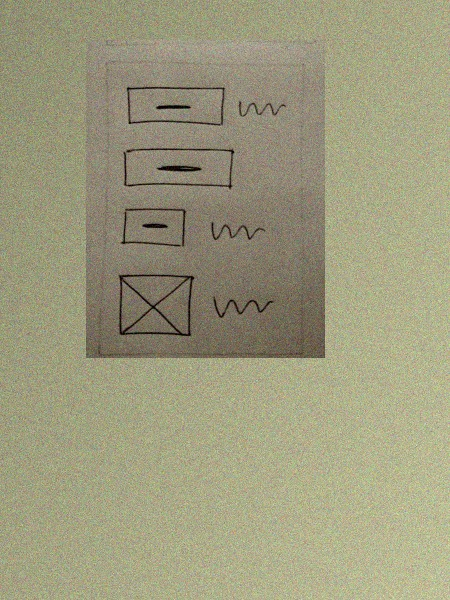button: (118, 146, 236, 195), (122, 83, 226, 131), (118, 206, 189, 251)
image: (114, 271, 196, 343)
text: (203, 219, 270, 248), (210, 293, 277, 322), (234, 96, 288, 122)
